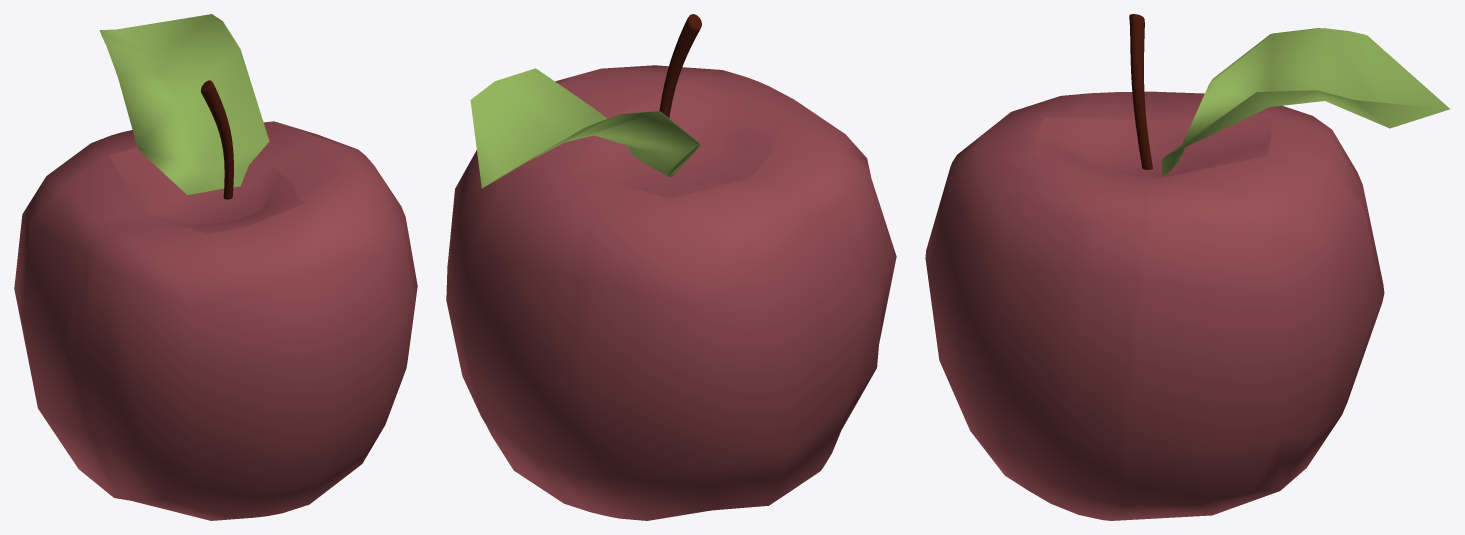
The model's file is appleRed.fbx.
3 renders of one model, left to right at view 1: azimuth 30°, elevation 25°; view 2: azimuth 150°, elevation 25°; view 3: azimuth 270°, elevation 25°, orthographic. The views are drawn at different scales.
Parts seen in each view (by area): view 1: Cube.001, Plane.001, apple.003; view 2: Cube.001, Plane.001, apple.003; view 3: Cube.001, Plane.001, apple.003.
Boxes of the visible parts, box(x1,y1,x2,y2) form: Cube.001: box(14, 121, 417, 520); Plane.001: box(99, 14, 269, 194); apple.003: box(201, 80, 233, 199); Cube.001: box(446, 65, 896, 520); Plane.001: box(470, 68, 699, 188); apple.003: box(659, 14, 701, 117); Cube.001: box(925, 91, 1384, 520); Plane.001: box(1162, 28, 1450, 176); apple.003: box(1129, 14, 1152, 169).
Bounding box in the file's own units: 176 × 200 × 212.
